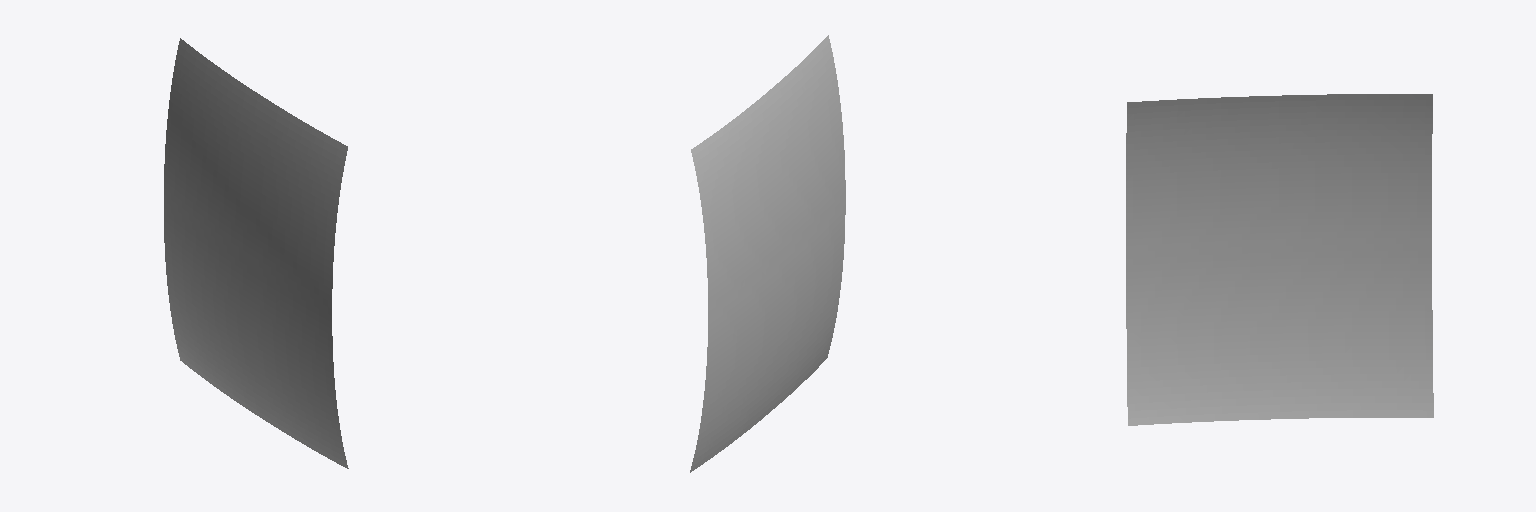
File: crt_screen.obj
The picture shows the model from 3 angles: view 1: azimuth 30°, elevation 25°; view 2: azimuth 150°, elevation 25°; view 3: azimuth 270°, elevation 25°; orthographic projection.
Visible parts, largest first — view 1: crt_screen; view 2: crt_screen; view 3: crt_screen.
Boxes of the visible parts, x1=… form: crt_screen: x1=164, y1=38, x2=348, y2=468; crt_screen: x1=690, y1=35, x2=845, y2=472; crt_screen: x1=1126, y1=94, x2=1433, y2=425.
Bounding box in the file's own units: 0.2507 × 2.32 × 2.